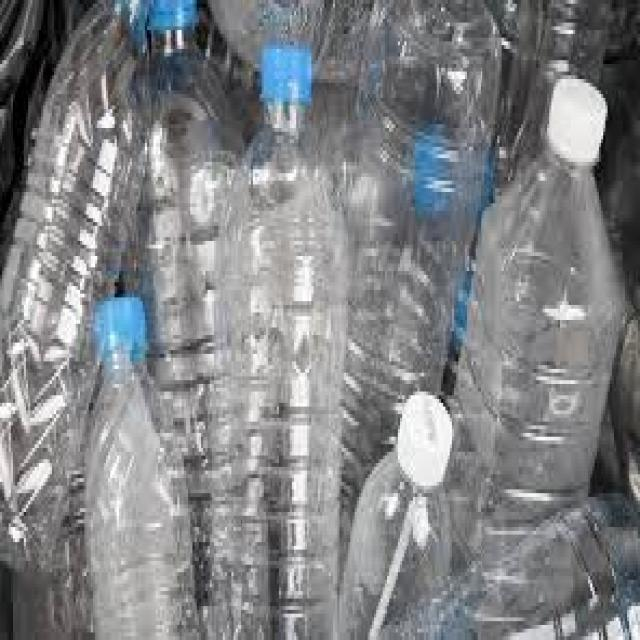plastic: (0, 0, 638, 636)
